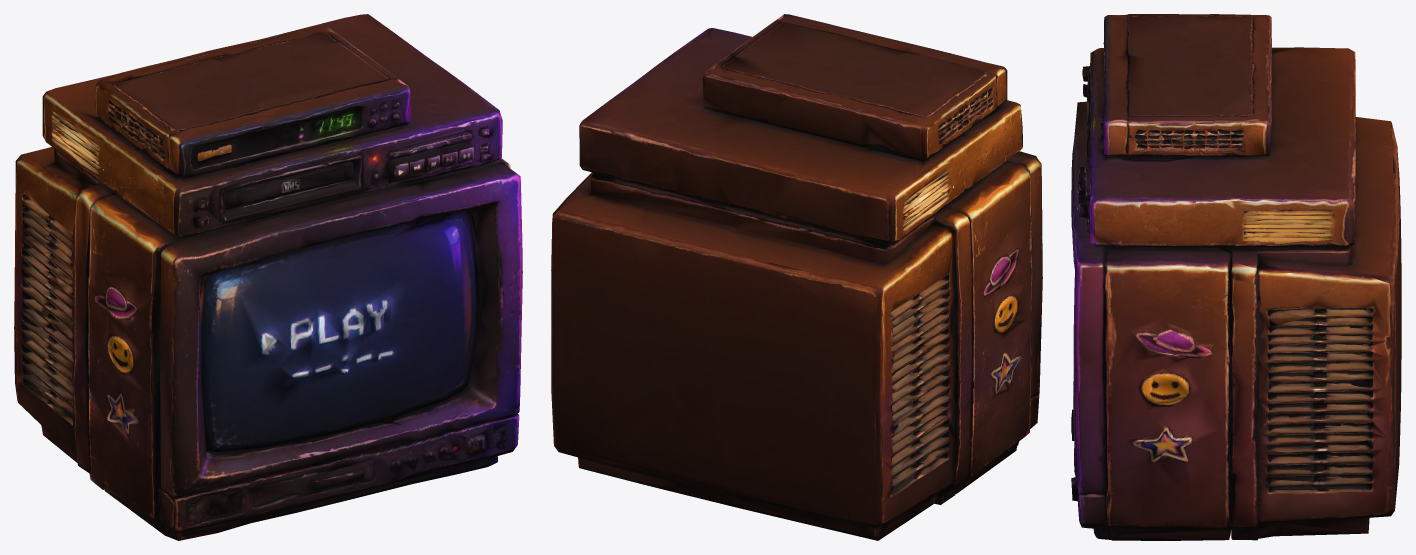
Rendered from crt.glb.
3 renders of one model, left to right at view 1: azimuth 30°, elevation 25°; view 2: azimuth 150°, elevation 25°; view 3: azimuth 270°, elevation 25°, orthographic. The views are drawn at different scales.
Parts seen in each view (by area): view 1: tripo_node_e1fe7842-e3da-4171-a069-05f2dfa557ad; view 2: tripo_node_e1fe7842-e3da-4171-a069-05f2dfa557ad; view 3: tripo_node_e1fe7842-e3da-4171-a069-05f2dfa557ad.
Part boxes in pixels (bbox=[...]): tripo_node_e1fe7842-e3da-4171-a069-05f2dfa557ad: bbox=[14, 14, 522, 540]; tripo_node_e1fe7842-e3da-4171-a069-05f2dfa557ad: bbox=[551, 14, 1042, 540]; tripo_node_e1fe7842-e3da-4171-a069-05f2dfa557ad: bbox=[1071, 14, 1401, 540].
Bounding box in the file's own units: 0.9517 × 0.979 × 0.7669.
1 material, 1 textured.
